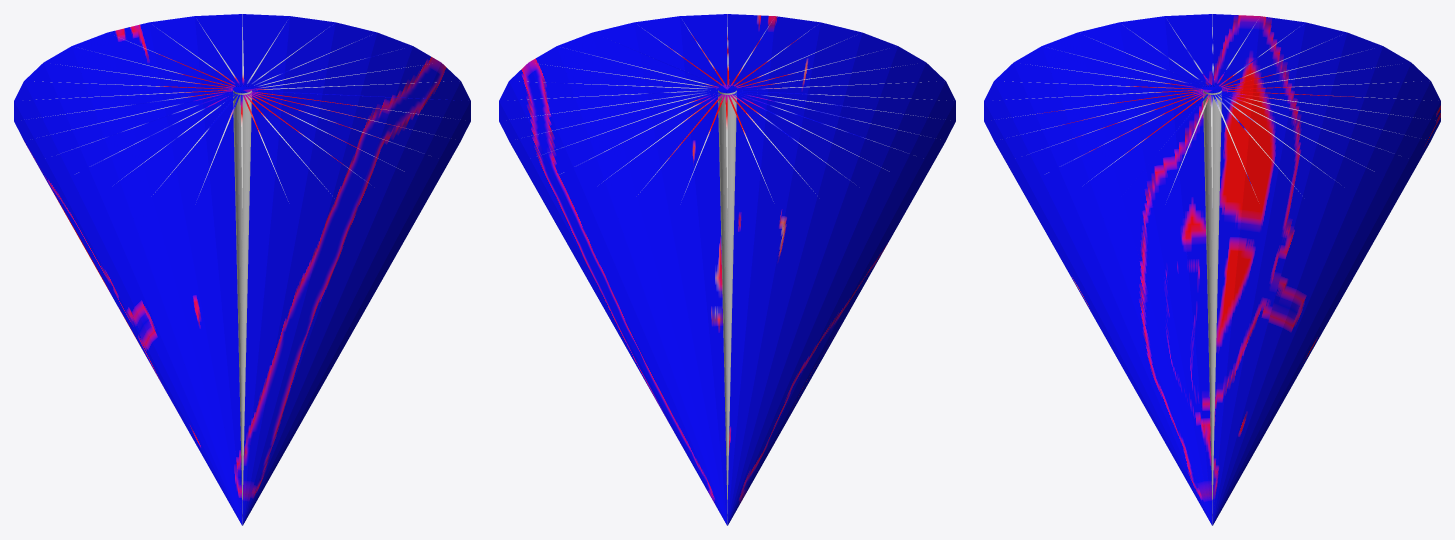
3 renders of one model, left to right at view 1: azimuth 30°, elevation 25°; view 2: azimuth 150°, elevation 25°; view 3: azimuth 270°, elevation 25°, orthographic.
Parts seen in each view (by area): view 1: algeomath; view 2: algeomath; view 3: algeomath.
Boxes of the visible parts, x1,y1,x2,y2 form: algeomath: (14, 14, 470, 525); algeomath: (499, 14, 955, 525); algeomath: (984, 14, 1440, 525).
Bounding box in the file's own units: 5.97 × 6.27 × 5.94.
1 material, 1 textured.
